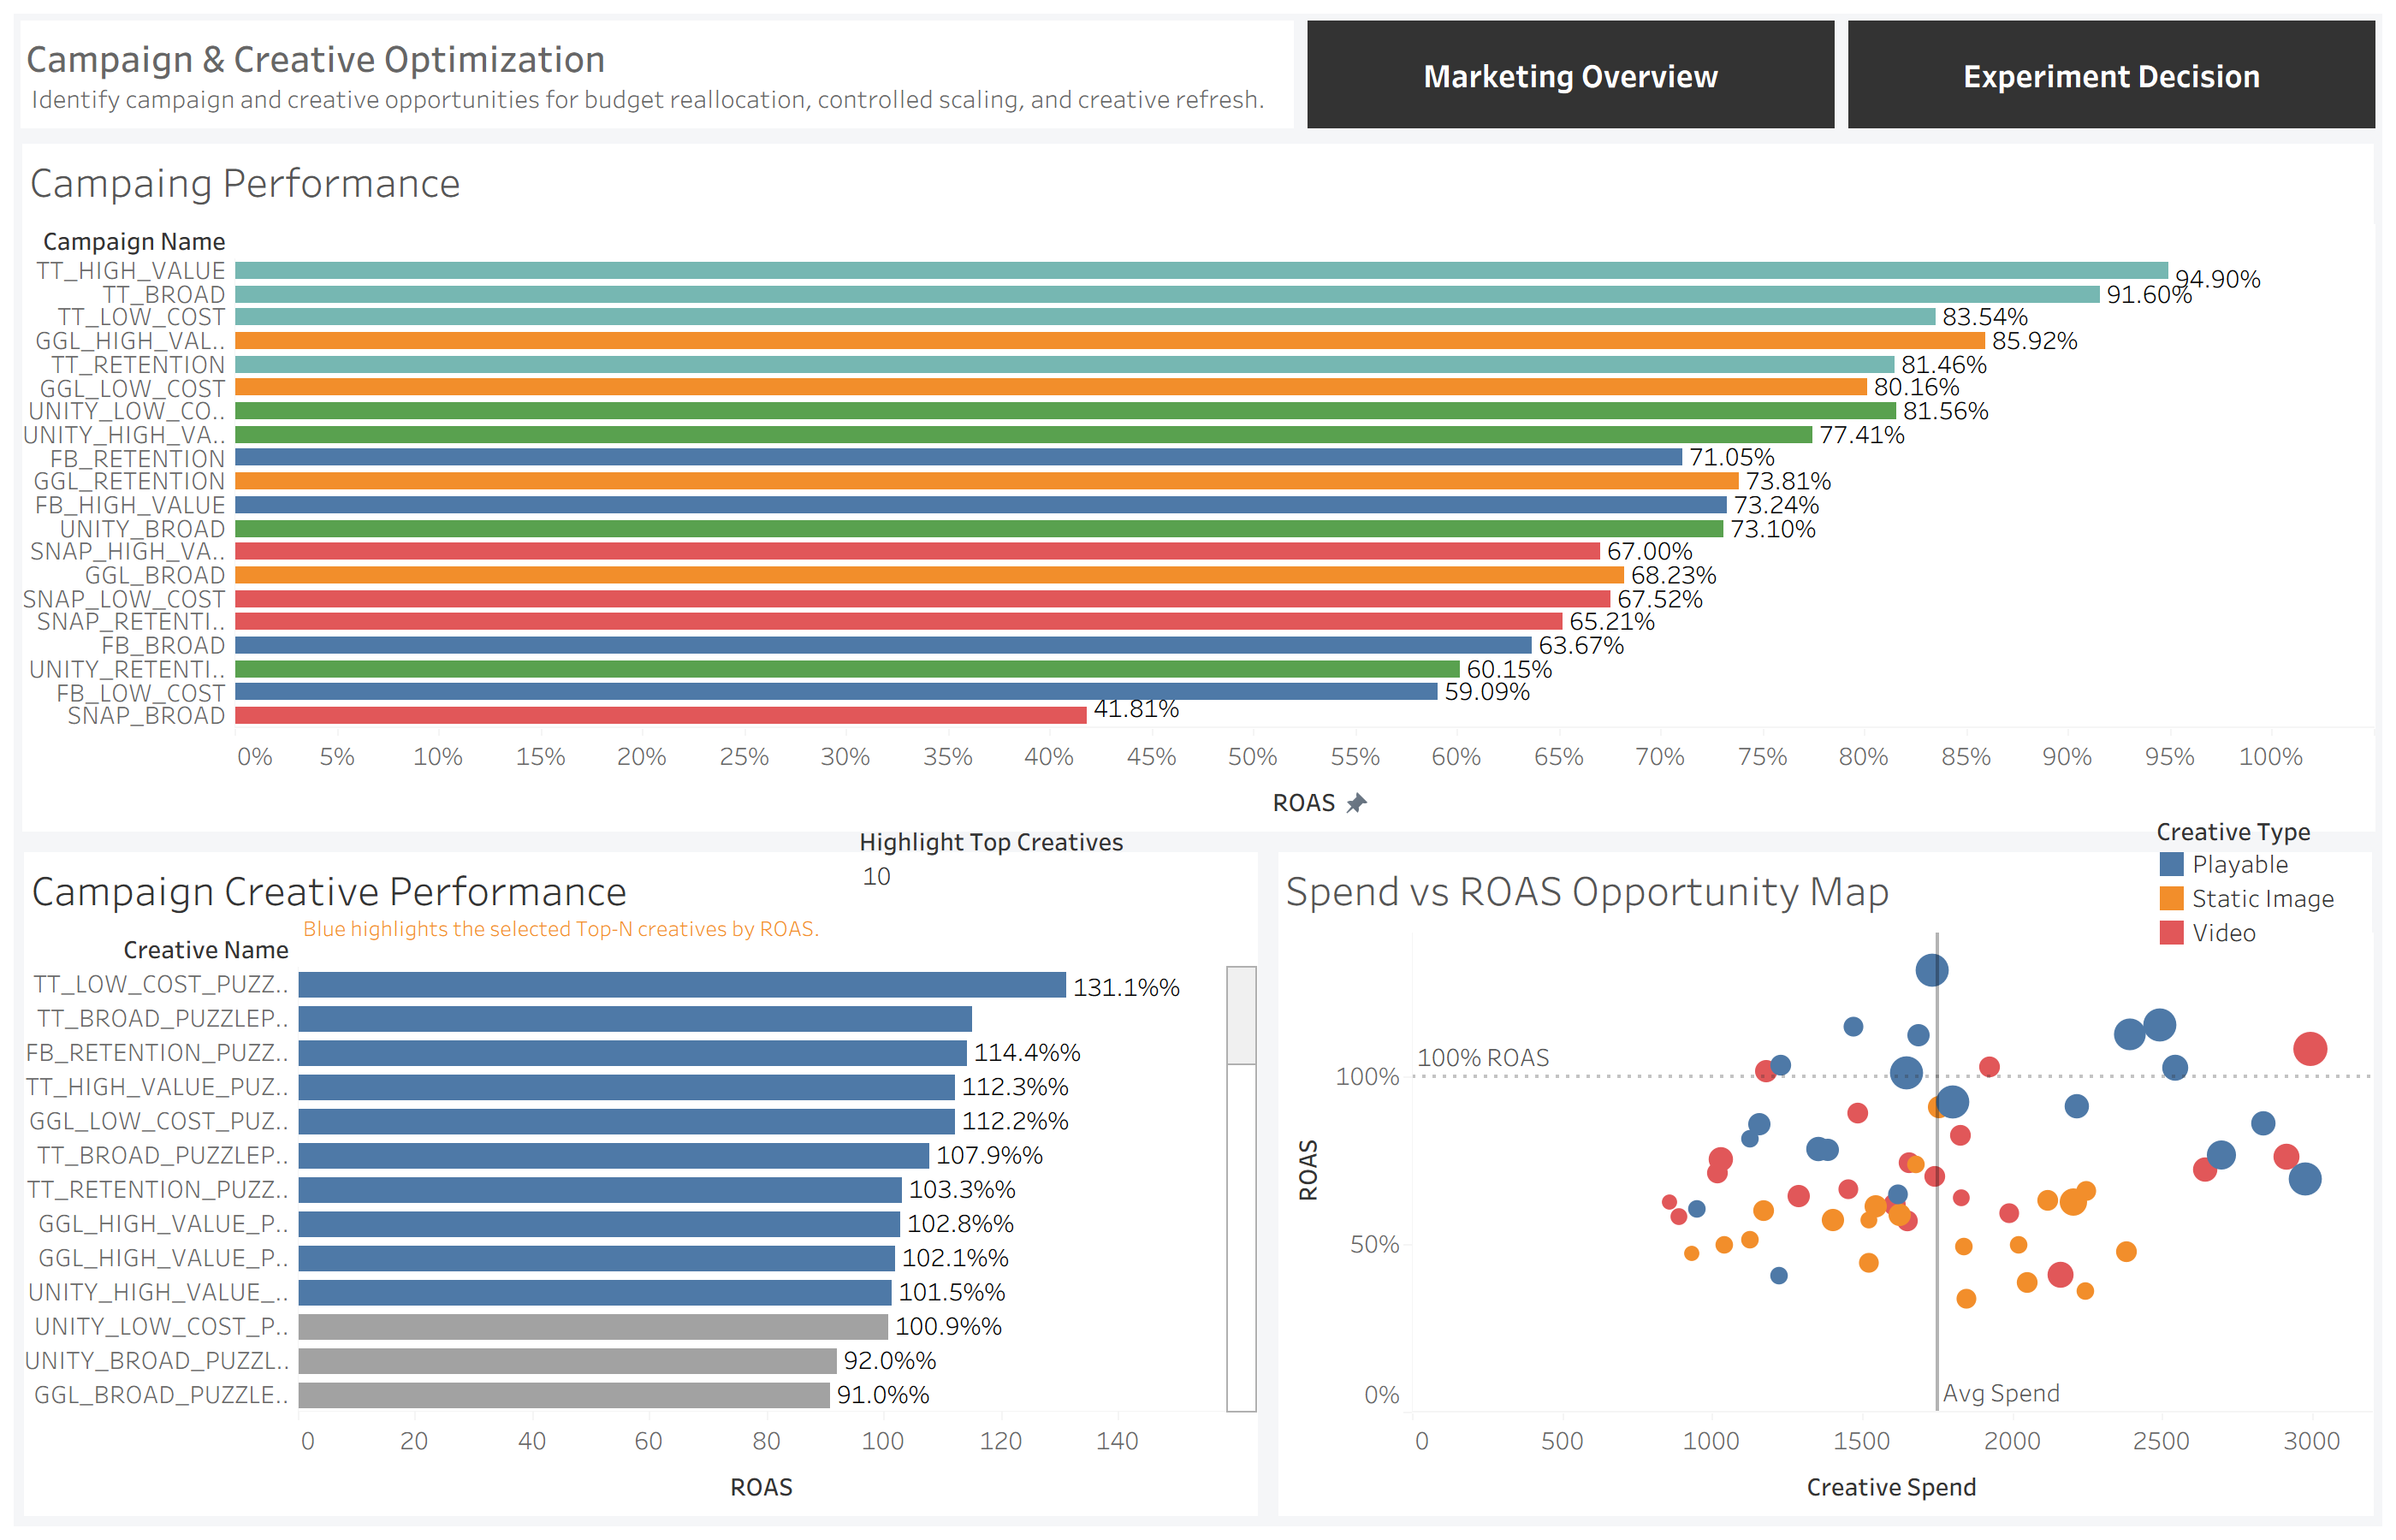

The page's visual inventory and layout, read from the dashboard file:
{"tool":"tableau","page":{"name":"Campaign & Creative Optimization","canvas":[1400,900],"ordinal":0},"visuals":[{"type":"text","box":[8,8,752,71]},{"type":"dashboard-object","box":[760,8,316,71]},{"type":"dashboard-object","box":[1076,8,316,71]},{"type":"worksheet","title":"Campaing Performance","mark":"Automatic","rows":["campaign_name"],"cols":["Calculation_1420362336493574"],"box":[8,79,1384,412.5]},{"type":"legend","title":"Spend vs ROAS Opportunity Map","param":"[federated.0bmt5860vne0l81730srx0ahq49d].[none:creative_type:nk]","box":[1259,474,140,81]},{"type":"parameter","param":"[Parameters].[Parameter 1420361551982595]","box":[502,481,160,70]},{"type":"worksheet","title":"Campaign Creative Performance","mark":"Automatic","rows":["creative_name"],"cols":["roas_pct"],"box":[8,491.5,733,400.5]},{"type":"worksheet","title":"Spend vs ROAS Opportunity Map","mark":"Circle","rows":["Calculation_1420361926975492"],"cols":["total_spend"],"box":[741,491.5,651,400.5]},{"type":"text","box":[174,527,359,30]}]}

Visuals, with their boxes in screenshot pixels (x1, y1, x2, y2), scaled from the page's 1400x900 canvas onto the 2396x1540 screenshot:
text: box=[14, 14, 1301, 135]
dashboard-object: box=[1301, 14, 1841, 135]
dashboard-object: box=[1841, 14, 2382, 135]
"Campaing Performance" worksheet: box=[14, 135, 2382, 841]
"Spend vs ROAS Opportunity Map" legend: box=[2155, 811, 2394, 950]
parameter: box=[859, 823, 1133, 943]
"Campaign Creative Performance" worksheet: box=[14, 841, 1268, 1526]
"Spend vs ROAS Opportunity Map" worksheet (Circle marks): box=[1268, 841, 2382, 1526]
text: box=[298, 902, 912, 953]
